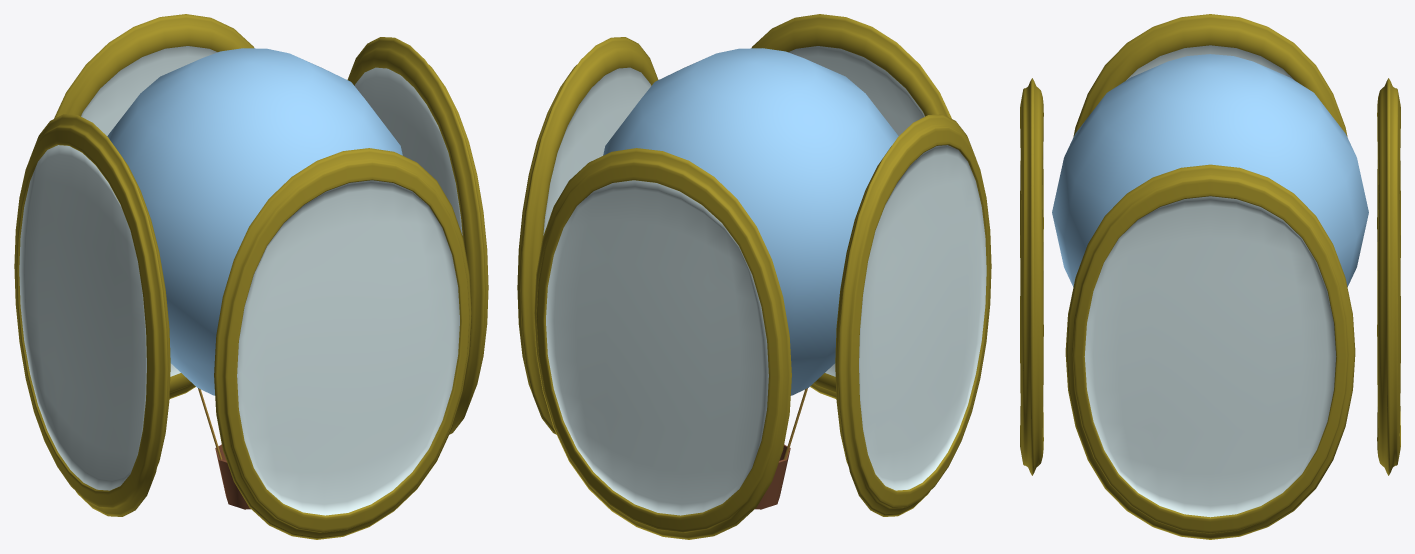
Rendered from Lv4_FB_Reflectist.FBX.
The picture shows the model from 3 angles, left to right: view 1: azimuth 30°, elevation 25°; view 2: azimuth 150°, elevation 25°; view 3: azimuth 270°, elevation 25°; orthographic projection. The views are drawn at different scales.
Parts seen in each view (by area): view 1: Box001, Box004, Sphere001, Box002, Box003, Cylinder001; view 2: Box003, Box004, Sphere001, Box002, Box001, Cylinder001; view 3: Box002, Sphere001, Box004, Box001, Box003.
Part boxes in pixels (<box>): Box001: <box>214,148,471,539</box>; Box004: <box>14,114,170,516</box>; Sphere001: <box>107,48,402,395</box>; Box002: <box>347,37,488,434</box>; Box003: <box>54,14,254,398</box>; Cylinder001: <box>215,444,250,509</box>; Box003: <box>534,148,791,539</box>; Box004: <box>835,114,991,516</box>; Sphere001: <box>603,48,898,395</box>; Box002: <box>517,37,658,434</box>; Box001: <box>751,14,951,398</box>; Cylinder001: <box>755,444,790,509</box>; Box002: <box>1065,164,1355,539</box>; Sphere001: <box>1052,54,1368,286</box>; Box004: <box>1073,14,1347,136</box>; Box001: <box>1020,78,1043,475</box>; Box003: <box>1377,78,1400,475</box>.
Size of the model in its own units: 156 by 192 by 156.
